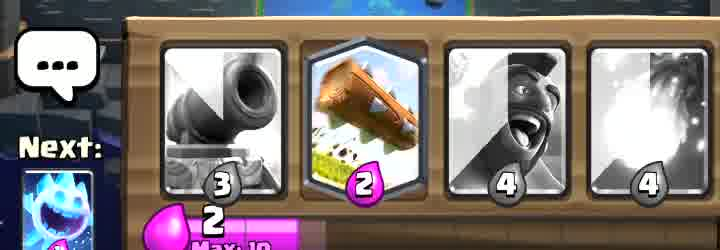ice-spirit: (25, 170, 93, 250)
